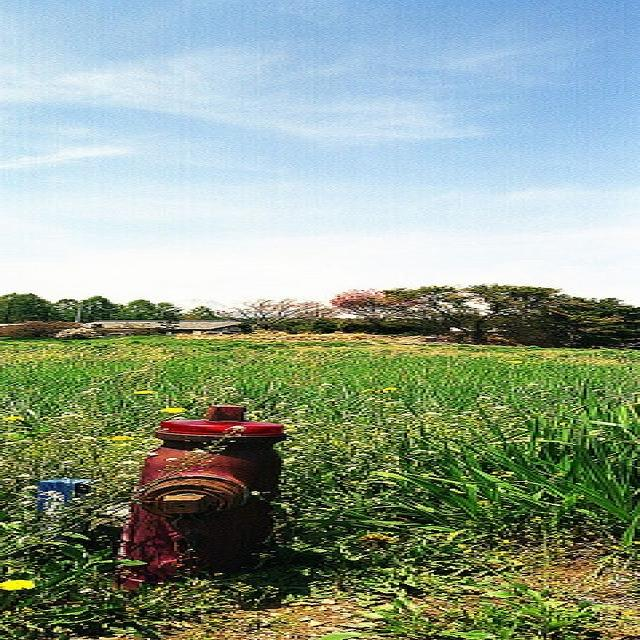fire_hydrant: (107, 402, 284, 595)
